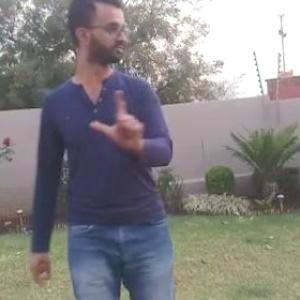land_hand: (90, 88, 148, 151)
